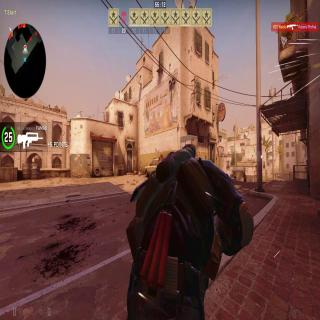T-Body: (158, 152, 163, 162)
T-Head: (160, 152, 163, 158)
